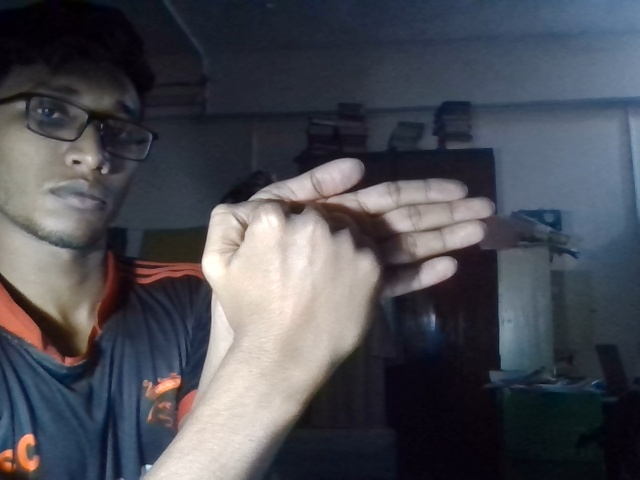b: (184, 156, 500, 346)
